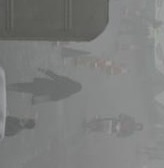person: (5, 66, 84, 105), (112, 112, 144, 139), (5, 114, 37, 138)
